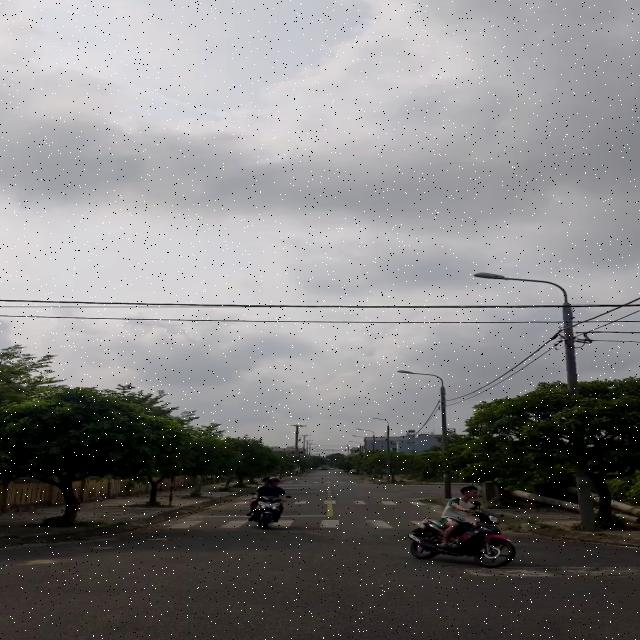no_helmet: (458, 480, 487, 507)
